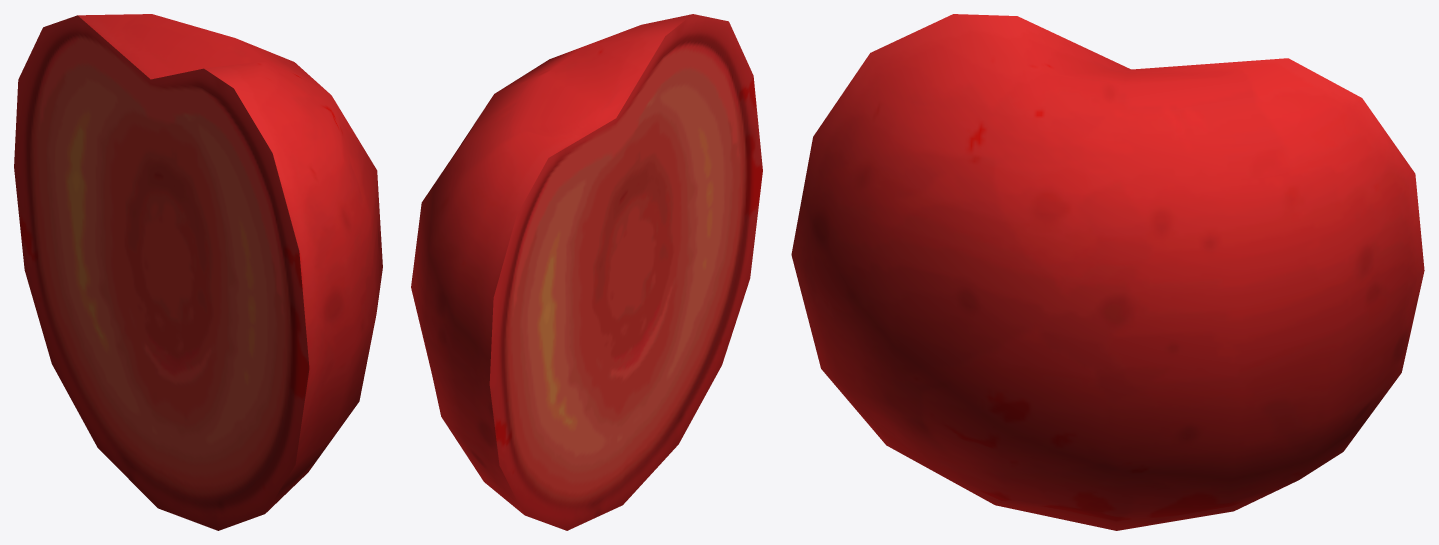
The model's file is SM_CherryACutB.fbx.
3 views of the same model, side by side, from view 1: azimuth 30°, elevation 25°; view 2: azimuth 150°, elevation 25°; view 3: azimuth 270°, elevation 25° (orthographic). The views are drawn at different scales.
Parts seen in each view (by area): view 1: SM_CherryACutB; view 2: SM_CherryACutB; view 3: SM_CherryACutB.
Part boxes in pixels (x1,y1,x2,y2): SM_CherryACutB: [14, 14, 382, 530]; SM_CherryACutB: [411, 14, 762, 530]; SM_CherryACutB: [791, 14, 1424, 530].
Bounding box in the file's own units: 1.74 × 4.12 × 4.64.
